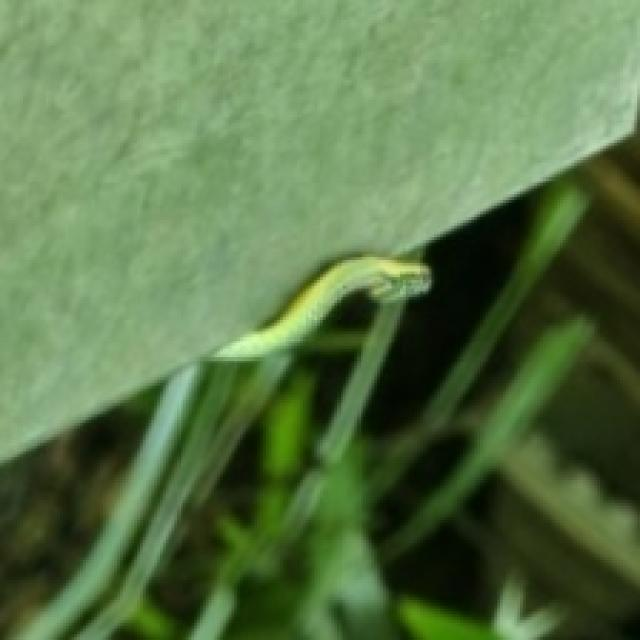paradise tree snake: (17, 257, 429, 637), (211, 257, 429, 357)
